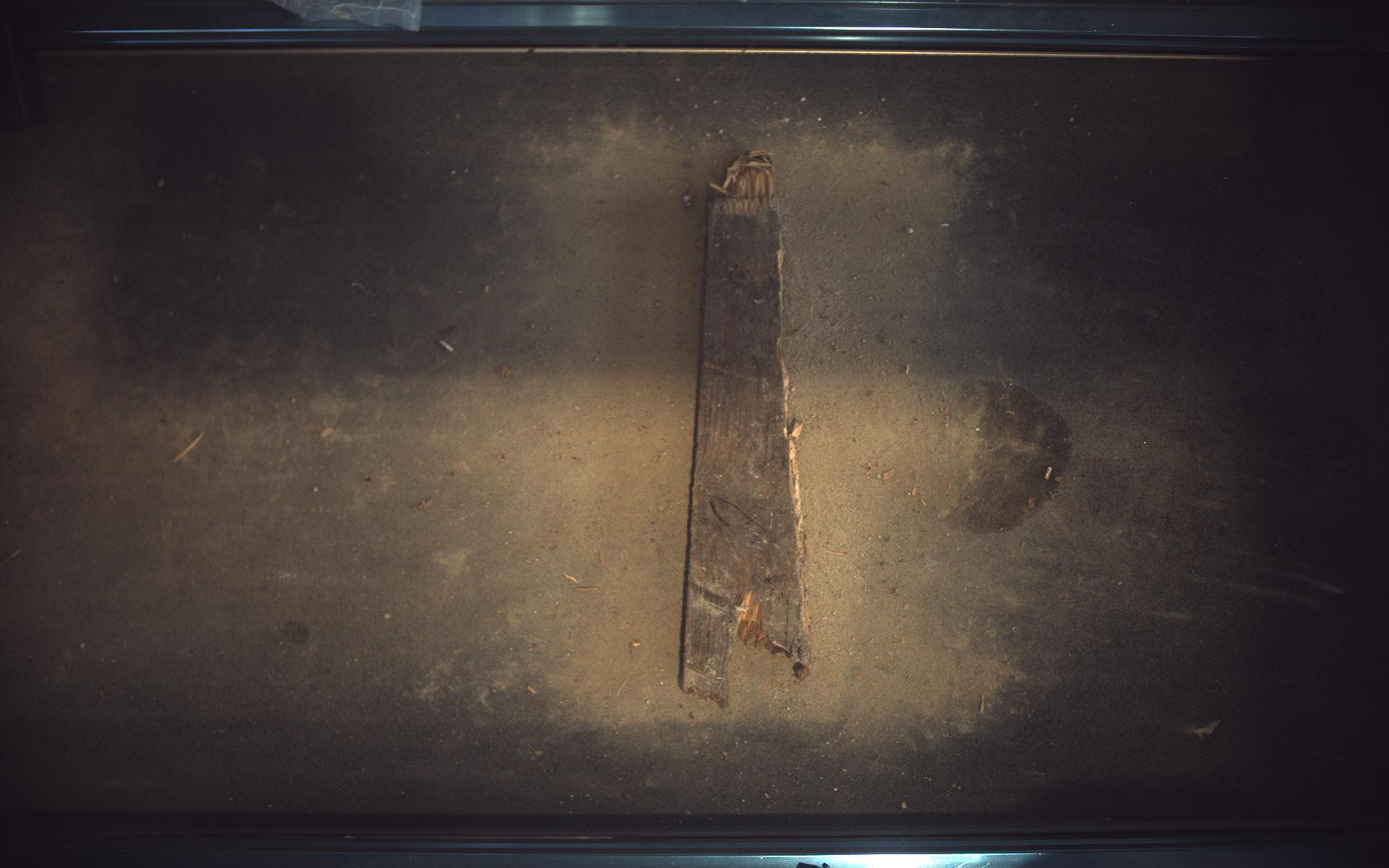wood: (681, 150, 811, 706)
